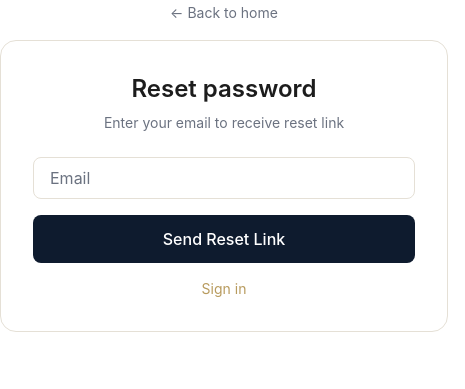
ForgotPasswordForm › shows validation error for invalid email on submit
Type "invalid-email" into the field with placeholder "Email" at (224, 178), box [33,157,415,199]
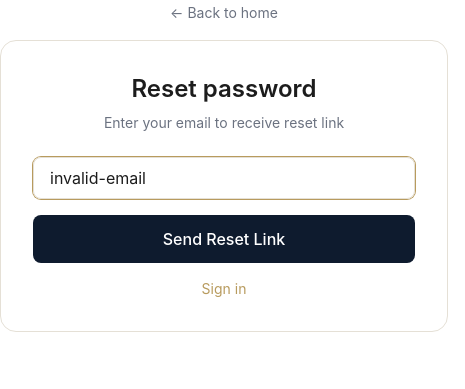
Click the button "Send Reset Link" at (224, 239), box [33,215,415,263]
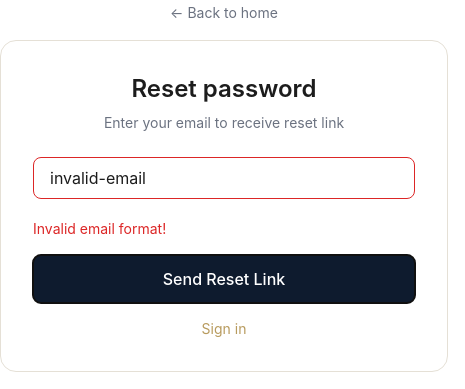
Expected: the text "Invalid email format!" is shown, [33,220,166,237]
